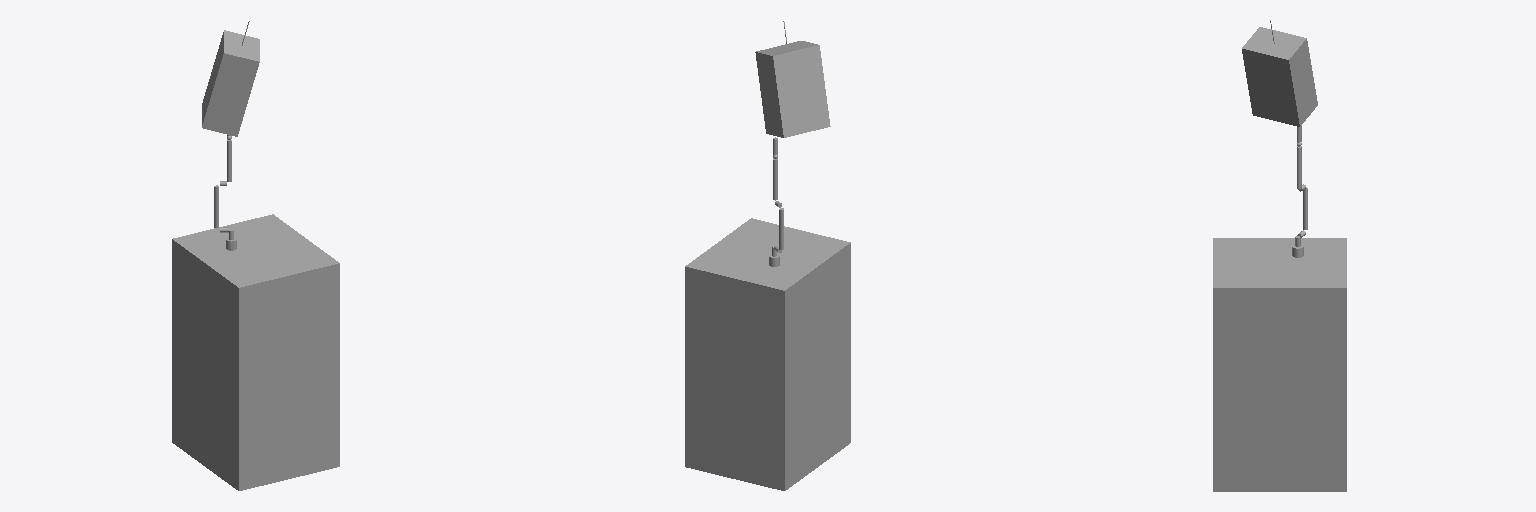
The robot description file, URDF, robot "FREND":
<?xml version="1.0" ?>
<!-- =================================================================================== -->
<!-- |    This document was autogenerated by xacro from /home/medusar/bspin/on_orbit/catkin_ws/src/on_orbit/urdf/simulation/satellite/robot.xacro | -->
<!-- |    EDITING THIS FILE BY HAND IS NOT RECOMMENDED                                 | -->
<!-- =================================================================================== -->
<robot name="FREND">
  <mujoco>
    <compiler fusestatic="false" inertiafromgeom="false"/>
  </mujoco>
  <!-- Base link is referred to as "MRV in NG's docs"-->
  <link name="base_link">
    <visual>
      <origin rpy="0 0 0" xyz="0 0 0"/>
      <geometry>
        <box size="2.068 2.372 3.975"/>
      </geometry>
      <material name="transparent_gray">
        <color rgba="0.7 0.7 0.7 0.5"/>
      </material>
    </visual>
    <inertial>
      <mass value="4469"/>
      <origin rpy="0 0 0" xyz="0 0 0"/>
      <inertia ixx="7979.775268" ixy="0" ixz="0" iyy="7477.102148" iyz="0" izz="3688.045229"/>
    </inertial>
    <collision>
      <origin rpy="0 0 0" xyz="0 0 0"/>
      <geometry>
        <box size="2.068 2.372 3.975"/>
      </geometry>
    </collision>
  </link>
  <!-- Joint/Link 0-->
  <joint name="joint0" type="fixed">
    <parent link="base_link"/>
    <child link="link0"/>
    <!-- <origin rpy="0 0 1.047196667" xyz="0.3182 -0.3182 1.9875"/> -->
    <origin rpy="0 0 -2.0969" xyz="-0.3182 0.3182 1.9875"/>
  </joint>
  <link name="link0">
    <visual>
      <origin rpy="0 0 0" xyz="0 0 0.0894"/>
      <geometry>
        <cylinder length="0.178765" radius="0.1"/>
        <!-- We make link0 half the length of D1 in NG's doc.-->
      </geometry>
      <material name="black">
        <color rgba="0.7 0.7 0.7 1"/>
      </material>
    </visual>
    <inertial>
      <mass value="15.8469"/>
      <origin rpy="0 0 0" xyz="0 0 0"/>
      <inertia ixx="0.0890808" ixy="0" ixz="0" iyy="0.0890808" iyz="0" izz="0.0792345"/>
    </inertial>
    <collision>
      <origin rpy="0 0 0" xyz="0 0 0.0894"/>
      <geometry>
        <cylinder length="0.178765" radius="0.1"/>
      </geometry>
    </collision>
  </link>
  <!-- Joint/Link 1-->
  <joint name="joint1" type="revolute">
    <parent link="link0"/>
    <child link="link1"/>
    <origin rpy="0 0 0" xyz="0 0 0.178765"/>
    <axis xyz="0 0 1"/>
    <dynamics damping="0" friction="0"/>
    <limit effort="150.0" lower="-2.792526803" upper="2.792526803" velocity="0.06981317008"/>
  </joint>
  <link name="link1">
    <visual>
      <origin rpy="0 0 0" xyz="0 0 0.0894"/>
      <geometry>
        <cylinder length="0.178765" radius="0.045"/>
      </geometry>
      <material name="black">
        <color rgba="0.7 0.7 0.7 1"/>
      </material>
    </visual>
    <inertial>
      <mass value="21.4021"/>
      <origin rpy="0 0 0" xyz="0 0 0"/>
      <inertia ixx="0.07836099" ixy="0" ixz="0" iyy="0.07836099" iyz="0" izz="0.02675263"/>
    </inertial>
    <collision>
      <origin rpy="0 0 0" xyz="0 0 0.0894"/>
      <geometry>
        <cylinder length="0.178765" radius="0.045"/>
      </geometry>
    </collision>
  </link>
  <!-- Joint/Link 2-->
  <joint name="joint2" type="revolute">
    <parent link="link1"/>
    <child link="link2"/>
    <origin rpy="1.5707963267948966 0 0" xyz="0 0 0.178765"/>
    <axis xyz="0 0 1"/>
    <dynamics damping="0" friction="0"/>
    <limit effort="150.0" lower="-1.745329252" upper="1.745329252" velocity="0.06981317008"/>
  </joint>
  <link name="link2">
    <visual>
      <origin rpy="0 0 0" xyz="0 0 0.12954"/>
      <geometry>
        <cylinder length="0.15908" radius="0.045"/>
      </geometry>
      <material name="black">
        <color rgba="0.7 0.7 0.7 1"/>
      </material>
    </visual>
    <inertial>
      <mass value="16.5794"/>
      <origin rpy="0 0 0" xyz="0 0 0"/>
      <inertia ixx="0.11988023" ixy="0" ixz="0" iyy="0.11988023" iyz="0" izz="0.02072425"/>
    </inertial>
    <collision>
      <origin rpy="0 0 0" xyz="0 0 0.12954"/>
      <geometry>
        <cylinder length="0.15908" radius="0.045"/>
      </geometry>
    </collision>
  </link>
  <!-- Joint/Link 3-->
  <joint name="joint3" type="revolute">
    <parent link="link2"/>
    <child link="link3"/>
    <origin rpy="-1.5707963267948966 0 0" xyz="0 0 0.25908"/>
    <axis xyz="0 0 1"/>
    <dynamics damping="0" friction="0"/>
    <limit effort="150.0" lower="-2.967059728" upper="2.565634" velocity="0.1047197551"/>
  </joint>
  <link name="link3">
    <visual>
      <origin rpy="0 0 0" xyz="0 0 0.45"/>
      <geometry>
        <cylinder length="0.8" radius="0.045"/>
      </geometry>
      <material name="black">
        <color rgba="0.7 0.7 0.7 1"/>
      </material>
    </visual>
    <inertial>
      <mass value="18.0461"/>
      <origin rpy="0 0 0" xyz="0 0 0"/>
      <inertia ixx="1.43189056" ixy="0" ixz="0" iyy="1.43189056" iyz="0" izz="0.0255763"/>
    </inertial>
    <collision>
      <origin rpy="0 0 0" xyz="0 0 0.45"/>
      <geometry>
        <cylinder length="0.8" radius="0.045"/>
      </geometry>
    </collision>
  </link>
  <!-- Joint/Link 4-->
  <joint name="joint4" type="revolute">
    <parent link="link3"/>
    <child link="link4"/>
    <origin rpy="1.5707963267948966 0 0" xyz="0 0 0.9"/>
    <axis xyz="0 0 1"/>
    <dynamics damping="0" friction="0"/>
    <limit effort="150.0" lower="-2.967059728" upper="2.617993878" velocity="0.1047197551"/>
  </joint>
  <link name="link4">
    <visual>
      <origin rpy="0 0 0" xyz="0 0 -0.111125"/>
      <geometry>
        <cylinder length="0.12225" radius="0.045"/>
      </geometry>
      <material name="black">
        <color rgba="0.7 0.7 0.7 1"/>
      </material>
    </visual>
    <inertial>
      <mass value="9.7351"/>
      <origin rpy="0 0 0" xyz="0 0 0"/>
      <inertia ixx="0.05850536" ixy="0" ixz="0" iyy="0.05850536" iyz="0" izz="0.01216888"/>
    </inertial>
    <collision>
      <origin rpy="0 0 0" xyz="0 0 -0.111125"/>
      <geometry>
        <cylinder length="0.12225" radius="0.045"/>
      </geometry>
    </collision>
  </link>
  <!-- Joint/Link 5-->
  <joint name="joint5" type="revolute">
    <parent link="link4"/>
    <child link="link5"/>
    <origin rpy="-1.5707963267948966 0 0" xyz="0 0 -0.22225"/>
    <axis xyz="0 0 1"/>
    <dynamics damping="0" friction="0"/>
    <limit effort="150.0" lower="-4.36332313" upper="2.617993878" velocity="0.1221730476"/>
  </joint>
  <link name="link5">
    <visual>
      <origin rpy="0 0 0" xyz="0 0 0.450085"/>
      <geometry>
        <cylinder length="0.8017" radius="0.045"/>
      </geometry>
      <material name="black">
        <color rgba="0.7 0.7 0.7 1"/>
      </material>
    </visual>
    <inertial>
      <mass value="7.7539"/>
      <origin rpy="0 0 0" xyz="0 0 0"/>
      <inertia ixx="0.73100869" ixy="0" ixz="0" iyy="0.73100869" iyz="0" izz="0.00969238"/>
    </inertial>
    <collision>
      <origin rpy="0 0 0" xyz="0 0 0.4500"/>
      <geometry>
        <cylinder length="0.8017" radius="0.045"/>
      </geometry>
    </collision>
  </link>
  <!-- Joint/Link 6-->
  <joint name="joint6" type="revolute">
    <parent link="link5"/>
    <child link="link6"/>
    <origin rpy="1.5707963267948966 0 0" xyz="0 0 0.90017"/>
    <axis xyz="0 0 1"/>
    <dynamics damping="0" friction="0"/>
    <limit effort="150.0" lower="-1.919862177" upper="1.919862177" velocity="0.1221730476"/>
  </joint>
  <link name="link6">
    <visual>
      <origin rpy="0 0 0" xyz="0 0 0"/>
      <geometry>
        <sphere radius="0.045"/>
      </geometry>
      <material name="black">
        <color rgba="0.7 0.7 0.7 1"/>
      </material>
    </visual>
    <inertial>
      <mass value="5.582"/>
      <origin rpy="0 0 0" xyz="0 0 0"/>
      <inertia ixx="0.01064042" ixy="0" ixz="0" iyy="0.01064042" iyz="0" izz="0.0069775"/>
    </inertial>
    <collision>
      <origin rpy="0 0 0" xyz="0 0 0"/>
      <geometry>
        <sphere radius="0.045"/>
      </geometry>
    </collision>
  </link>
  <!--Joint/Link 7-->
  <joint name="joint7" type="revolute">
    <parent link="link6"/>
    <child link="link7"/>
    <origin rpy="-1.5707963267948966 0 0" xyz="0 0 0"/>
    <axis xyz="0 0 1"/>
    <dynamics damping="0" friction="0"/>
    <limit effort="150.0" lower="-4.310963252" upper="1.169370599" velocity="0.12217304762"/>
  </joint>
  <link name="link7">
    <visual>
      <origin rpy="0 0 0" xyz="0 0 0.20395"/>
      <geometry>
        <cylinder length="0.3079" radius="0.045"/>
      </geometry>
      <material name="black">
        <color rgba="0.7 0.7 0.7 1"/>
      </material>
    </visual>
    <inertial>
      <mass value="5.2186"/>
      <origin rpy="0 0 0" xyz="0 0 0"/>
      <inertia ixx="0.11721416" ixy="0" ixz="0" iyy="0.11721416" iyz="0" izz="0.00652325"/>
    </inertial>
    <collision>
      <origin rpy="0 0 0" xyz="0 0 0.20395"/>
      <geometry>
        <cylinder length="0.3079" radius="0.045"/>
      </geometry>
    </collision>
  </link>
  <!-- Wrist joint -->
  <joint name="wrist_joint" type="fixed">
    <parent link="link7"/>
    <child link="wrist"/>
    <origin rpy="0 0 0" xyz="0 0 0.2979"/>
  </joint>
  <link name="wrist">
    <inertial>
      <mass value="0"/>
      <origin rpy="0 0 0" xyz="0 0 0"/>
      <inertia ixx="0" ixy="0" ixz="0" iyy="0" iyz="0" izz="0"/>
    </inertial>
  </link>
  <!-- MEP offset and MEP link-->
  <!-- MEP is attached in parallel with wrist-->
  <joint name="mep_offset" type="fixed">
    <parent link="link7"/>
    <child link="ee_body"/>
    <origin rpy="0 -0.261799167 -1.570795" xyz="0.376 -0.170 0.5009"/>
  </joint>
  <link name="ee_body">
    <visual>
      <origin rpy="0 0 0" xyz="0 0 0.759"/>
      <geometry>
        <box size="0.66 0.967 1.518"/>
      </geometry>
      <material name="black">
        <color rgba="0.7 0.7 0.7 1"/>
      </material>
    </visual>
    <inertial>
      <mass value="411"/>
      <origin rpy="0 0 0" xyz="0 0 0"/>
      <inertia ixx="347.7191863" ixy="0" ixz="0" iyy="330.611688" iyz="0" izz="46.946098253"/>
    </inertial>
    <collision>
      <origin rpy="0 0 0" xyz="0 0 0.759"/>
      <geometry>
        <box size="0.66 0.967 1.518"/>
      </geometry>
    </collision>
  </link>
  <!-- EE CoM -->
  <joint name="ee_com_joint" type="fixed">
    <parent link="ee_body"/>
    <child link="ee_com"/>
    <origin rpy="0 0 0" xyz="0 0 0.4675"/>
  </joint>
  <link name="ee_com">
    <inertial>
      <mass value="0"/>
      <origin rpy="0 0 0" xyz="0 0 0"/>
      <inertia ixx="0" ixy="0" ixz="0" iyy="0" iyz="0" izz="0"/>
    </inertial>
  </link>
  <!-- EE peg -->
  <joint name="ee_peg_joint" type="fixed">
    <parent link="ee_body"/>
    <child link="ee_peg"/>
    <origin rpy="0 0 0" xyz="0 0 1.3101"/>
  </joint>
  <link name="ee_peg">
    <visual>
      <origin rpy="0 0 0" xyz="0 0 0.36"/>
      <geometry>
        <cylinder length="0.72" radius="0.008"/>
      </geometry>
      <material name="white">
        <color rgba="0.7 0.7 0.7 1"/>
      </material>
    </visual>
    <inertial>
      <mass value="10"/>
      <origin rpy="0 0 0" xyz="0 0 0"/>
      <inertia ixx="1.1101" ixy="0" ixz="0" iyy="1.1101" iyz="0" izz="0.0125"/>
    </inertial>
    <collision>
      <origin rpy="0 0 0" xyz="0 0 0.36"/>
      <geometry>
        <cylinder length="0.72" radius="0.008"/>
      </geometry>
    </collision>
  </link>
  <!-- Peg center-->
  <joint name="peg_center_joint" type="fixed">
    <parent link="ee_peg"/>
    <child link="peg_center"/>
    <origin rpy="0 0 0" xyz="0 0 0.36"/>
  </joint>
  <link name="peg_center">
    <inertial>
      <mass value="0"/>
      <origin rpy="0 0 0" xyz="0 0 0"/>
      <inertia ixx="0" ixy="0" ixz="0" iyy="0" iyz="0" izz="0"/>
    </inertial>
  </link>
  <!-- EE Tip-->
  <joint name="ee_tip_joint" type="fixed">
    <parent link="ee_peg"/>
    <child link="ee_tip"/>
    <origin rpy="0 0 0" xyz="0 0 0.72"/>
  </joint>
  <link name="ee_tip">
    <inertial>
      <mass value="0"/>
      <origin rpy="0 0 0" xyz="0 0 0"/>
      <inertia ixx="0" ixy="0" ixz="0" iyy="0" iyz="0" izz="0"/>
    </inertial>
  </link>
  <!-- Cam link-->
  <joint name="cam_joint" type="fixed">
    <parent link="base_link"/>
    <child link="cam_link"/>
    <origin rpy="0 0 0" xyz="0.889 0.548 1.953"/>
  </joint>
  <link name="cam_link">
    <inertial>
      <mass value="0"/>
      <origin rpy="0 0 0" xyz="0 0 0"/>
      <inertia ixx="0" ixy="0" ixz="0" iyy="0" iyz="0" izz="0"/>
    </inertial>
  </link>
</robot>

--- Facts derived from the render (not from the file) ---
3 views of the same robot in one strip: view 1: azimuth 30°, elevation 25°; view 2: azimuth 150°, elevation 25°; view 3: azimuth 270°, elevation 25° (orthographic).
Robot: FREND — 16 links, 15 joints (7 revolute, 8 fixed); root link base_link; default pose: every joint at zero.
Visible links, largest first — view 1: base_link, ee_body; view 2: base_link, ee_body; view 3: base_link, ee_body.
Boxes of the visible links, x1,y1,x2,y2 form: base_link: (172,214,339,490); ee_body: (202,30,259,136); base_link: (685,218,850,490); ee_body: (755,41,830,137); base_link: (1213,238,1346,491); ee_body: (1242,27,1317,126).
Bounding box of the posed robot: 2.24 × 2.37 × 8.6 m (x, y, z).
Geometry: primitives only (box / cylinder / sphere), no mesh files.
